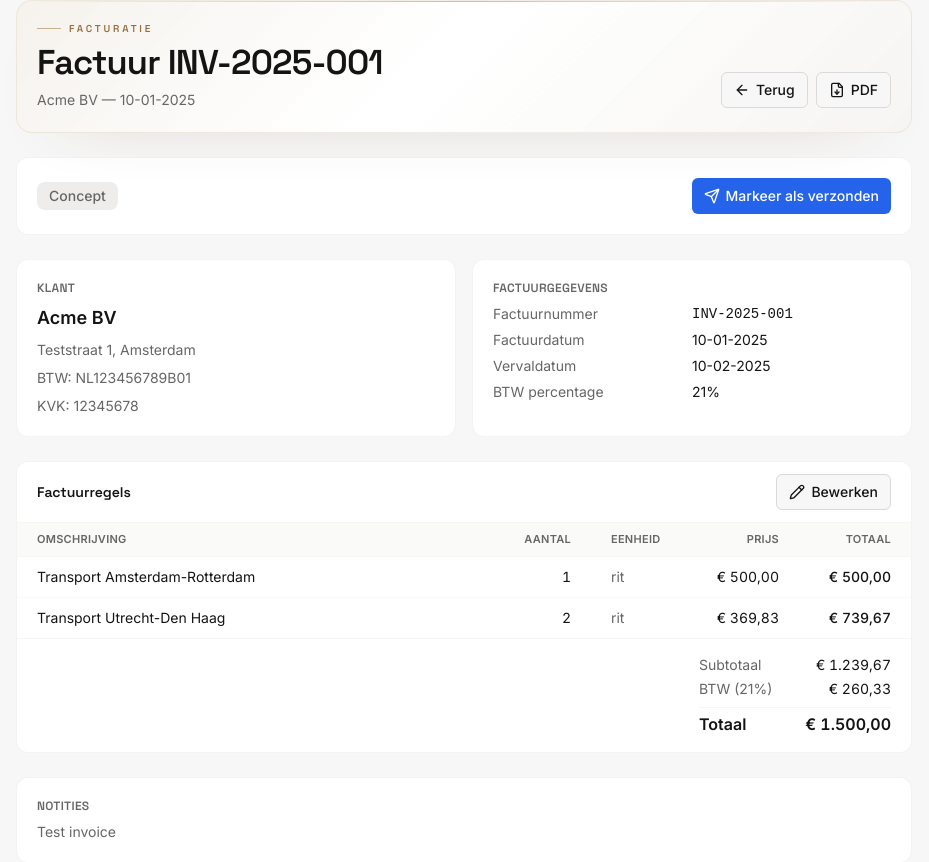
Test: FacturatieDetail › exits editing mode when clicking Annuleren (cancelEditing)
What coordinates should you click on to do the following:
click the button "Bewerken"
I would click on:
 (834, 492)
Its box is left=776, top=474, right=891, bottom=510.
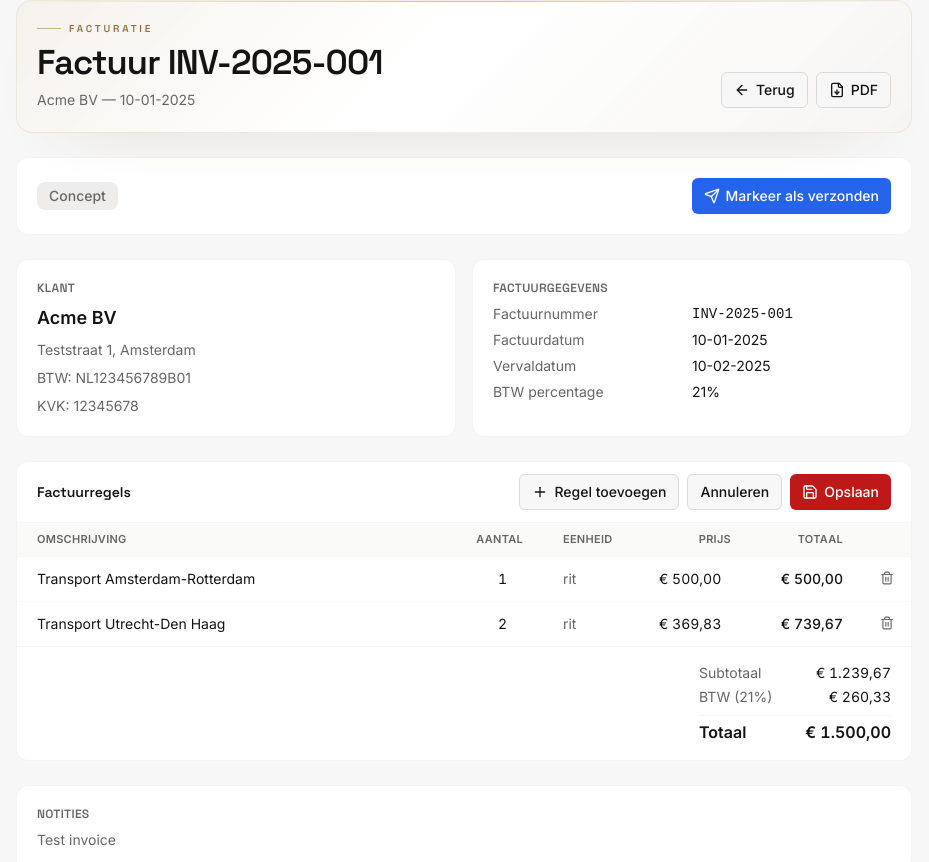
Expected: the button "Annuleren" is shown
What coordinates should you click on to do the following:
click the button "Annuleren"
I would click on:
 (735, 492)
Its box is left=688, top=474, right=782, bottom=510.
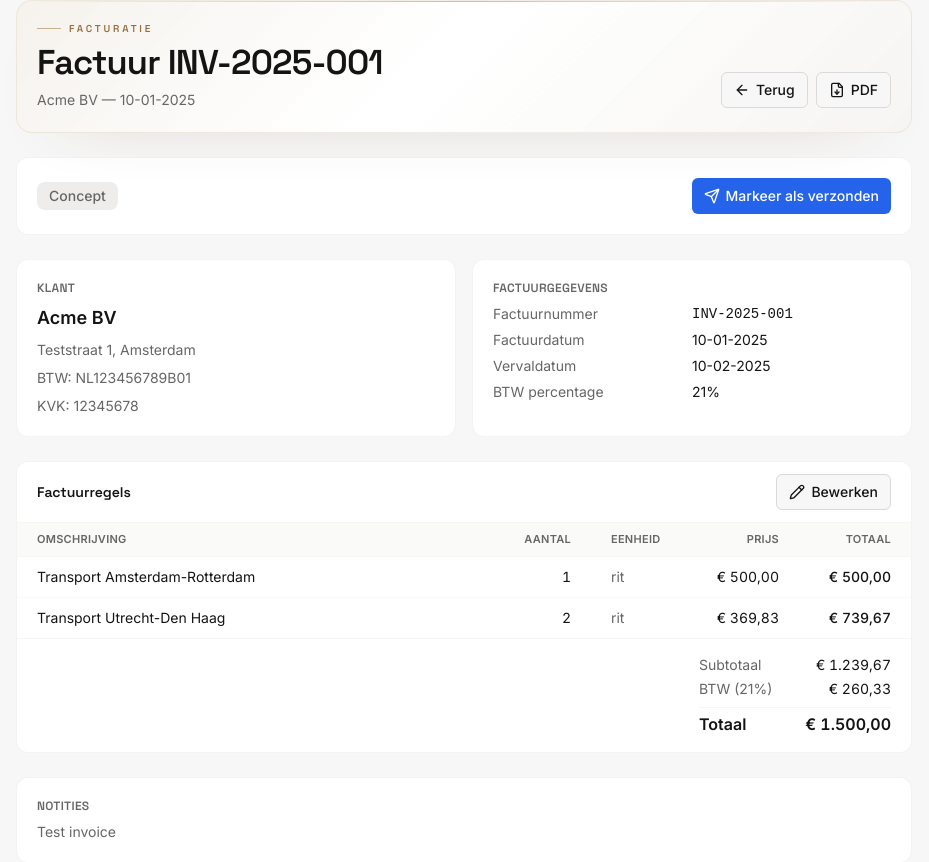
Expected: the button "Bewerken" is shown, left=776, top=474, right=891, bottom=510
